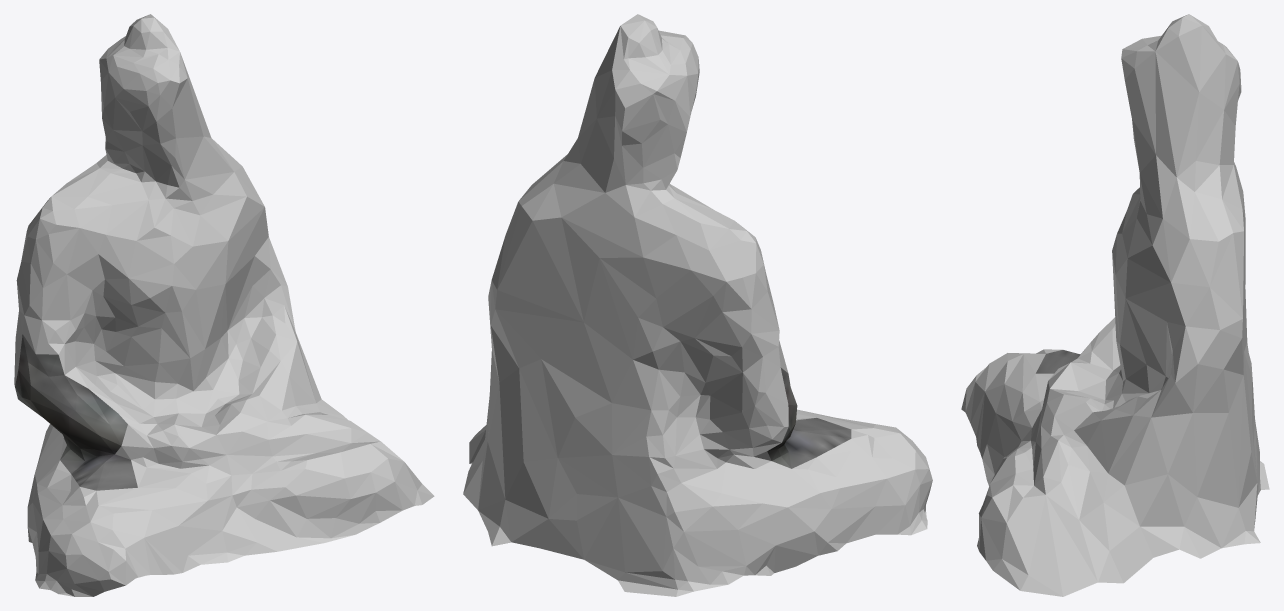
File: Patung 7.fbx
3 renders of one model, left to right at view 1: azimuth 30°, elevation 25°; view 2: azimuth 150°, elevation 25°; view 3: azimuth 270°, elevation 25°, orthographic. The views are drawn at different scales.
Visible parts, largest first — view 1: Patung 6; view 2: Patung 6; view 3: Patung 6.
Part boxes in pixels (bbox=[...]): Patung 6: bbox=[14, 14, 434, 596]; Patung 6: bbox=[463, 14, 932, 596]; Patung 6: bbox=[961, 14, 1269, 596].
Size of the model in its own units: 90.19 by 106 by 60.56.
